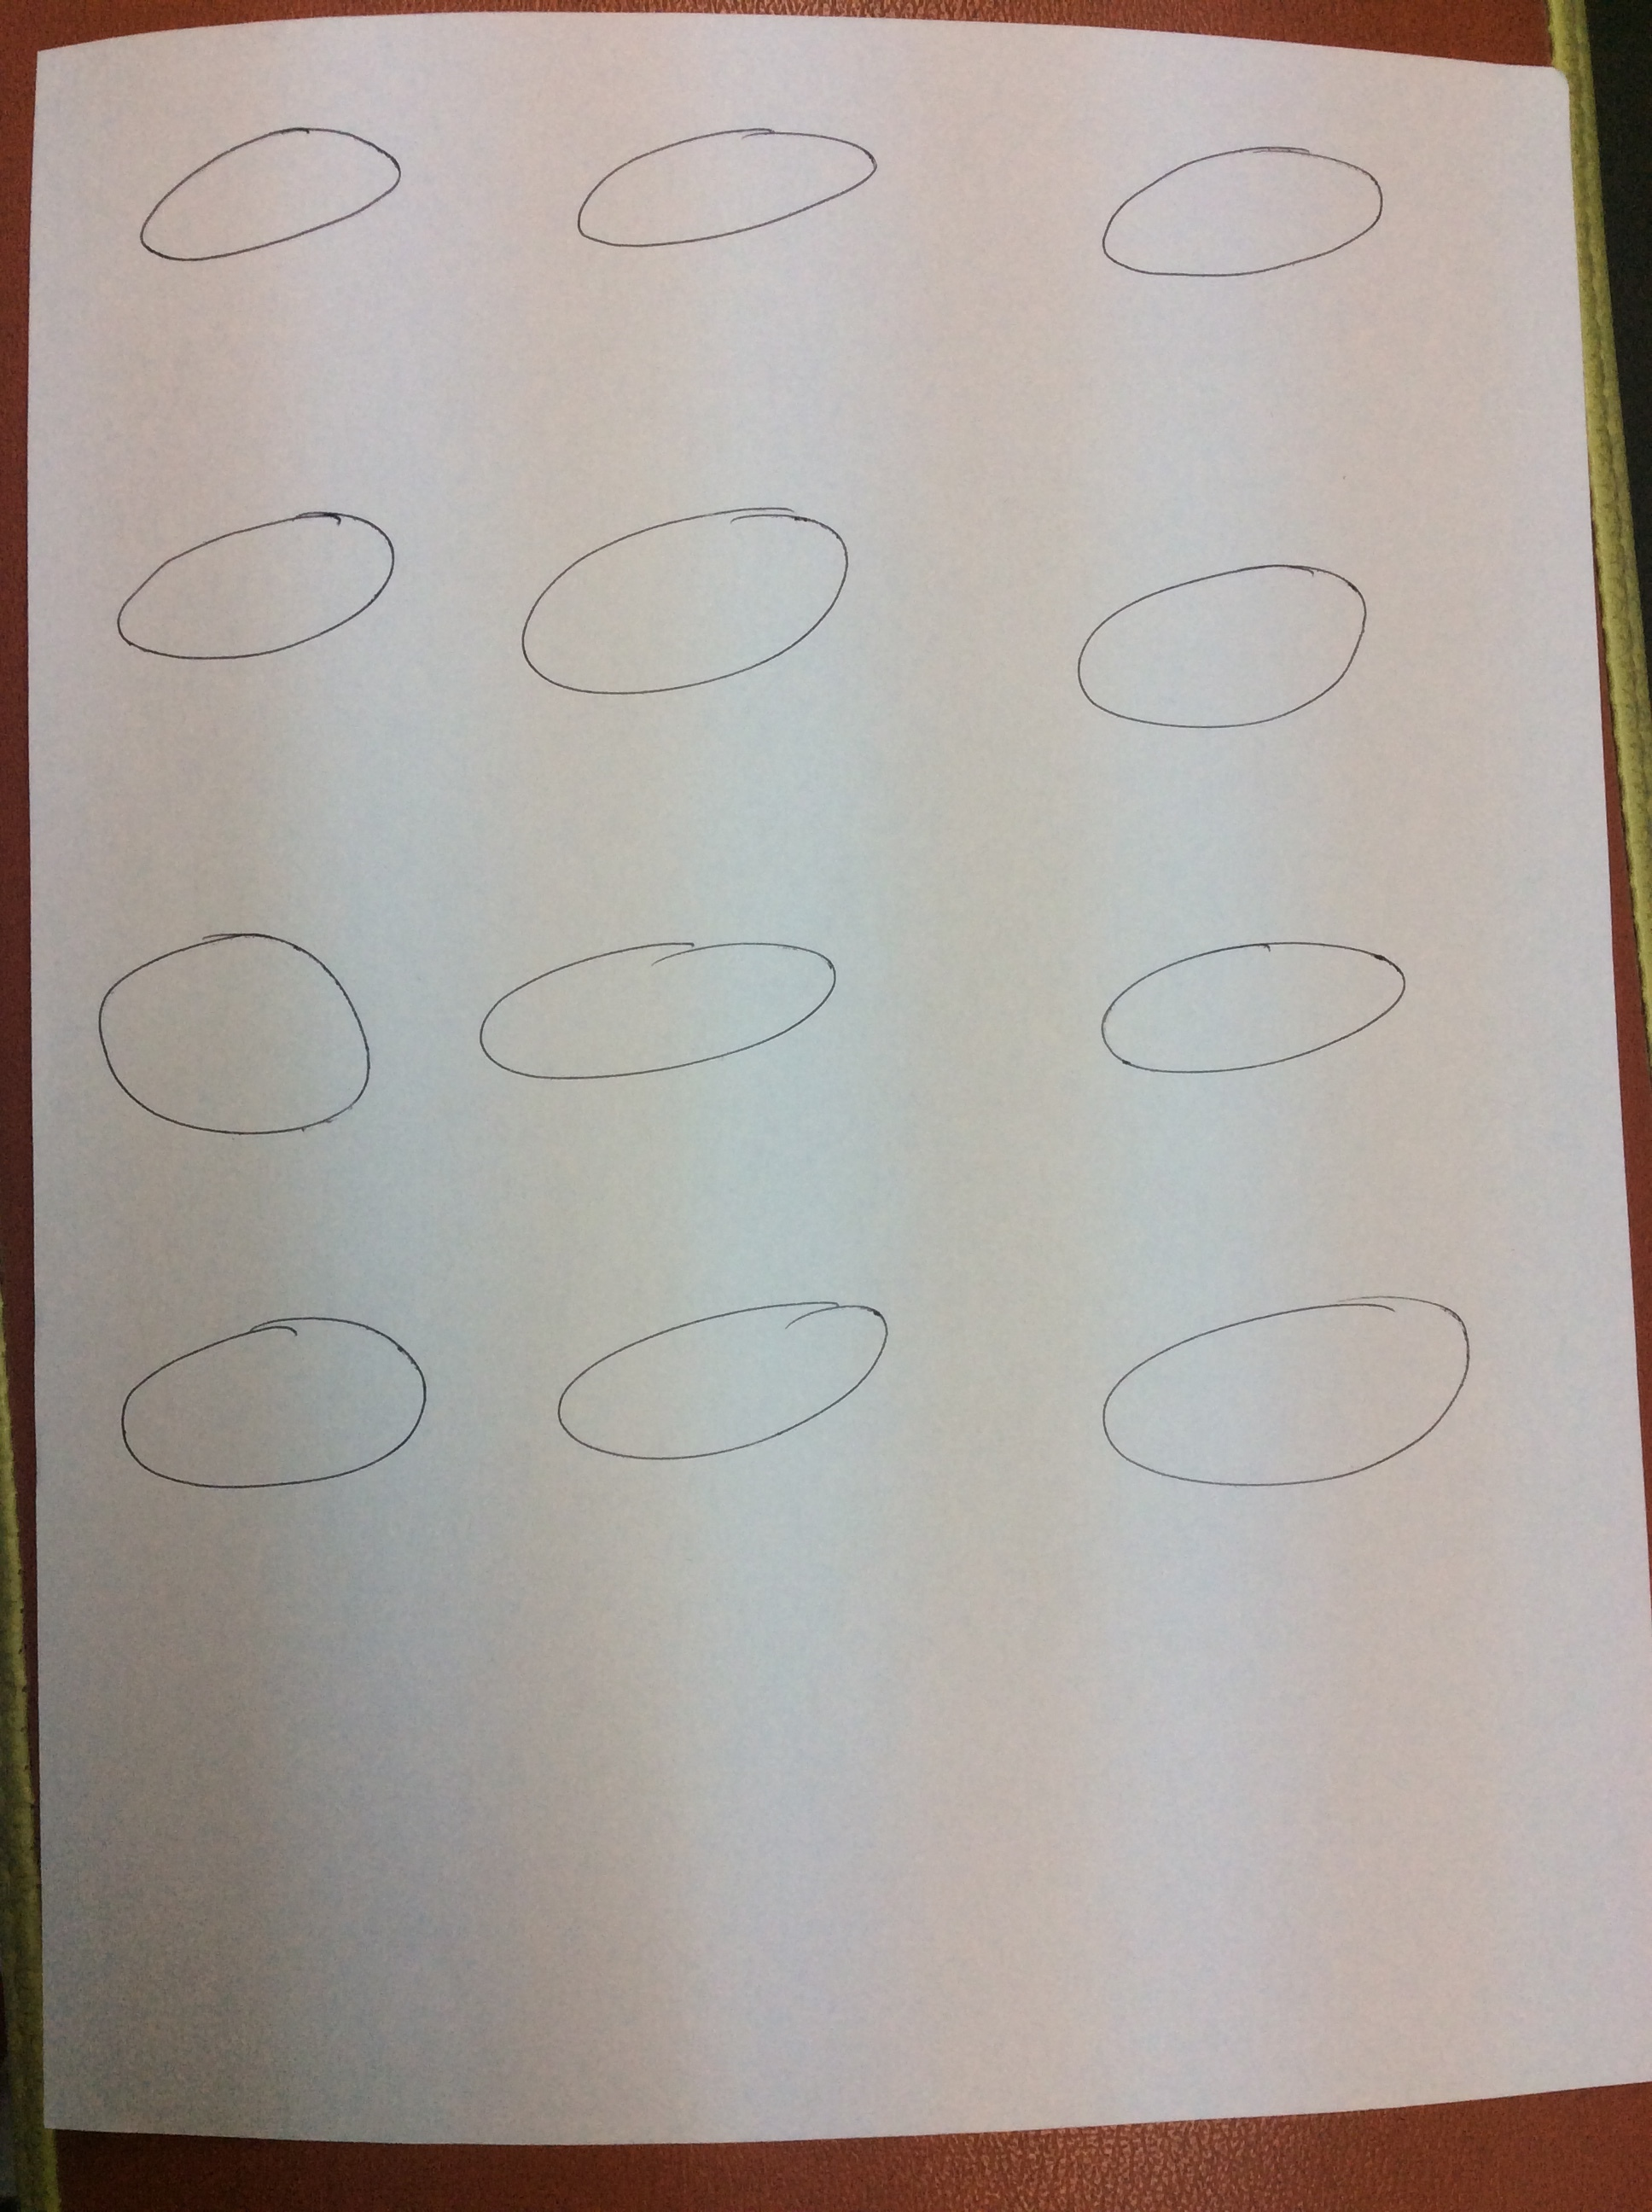start_end: (1060, 1270, 1499, 1516), (479, 468, 869, 717), (1019, 515, 1407, 751), (62, 888, 394, 1164), (514, 1280, 927, 1495), (449, 907, 866, 1107), (87, 1280, 439, 1513), (1039, 897, 1435, 1100), (1046, 109, 1407, 304), (80, 494, 418, 684), (541, 113, 906, 276), (104, 109, 429, 283)
